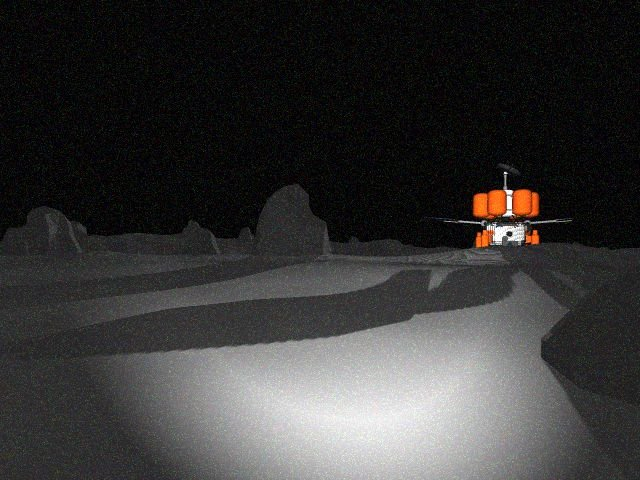homebase: (414, 158, 591, 269)
